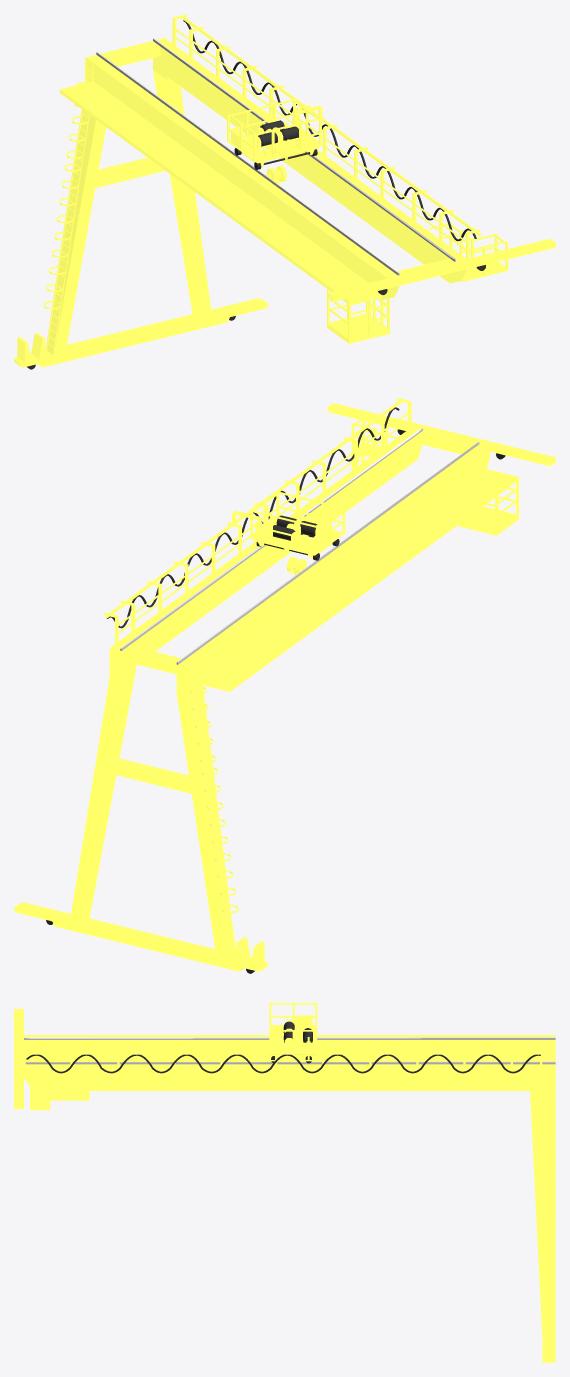
3 renders of one model, top to bottom at view 1: azimuth 30°, elevation 25°; view 2: azimuth 150°, elevation 25°; view 3: azimuth 270°, elevation 25°, orthographic. The views are drawn at different scales.
Visible parts, largest first — view 1: 2_Bay_C_868_Body, 2_Bay_C_868_Head_01; view 2: 2_Bay_C_868_Body, 2_Bay_C_868_Head_01; view 3: 2_Bay_C_868_Body, 2_Bay_C_868_Head_01.
Part boxes in pixels (x1=…): 2_Bay_C_868_Body: x1=14, y1=14, x2=555, y2=369; 2_Bay_C_868_Head_01: x1=227, y1=98, x2=322, y2=169; 2_Bay_C_868_Body: x1=14, y1=398, x2=555, y2=973; 2_Bay_C_868_Head_01: x1=232, y1=491, x2=345, y2=560; 2_Bay_C_868_Body: x1=14, y1=1009, x2=555, y2=1362; 2_Bay_C_868_Head_01: x1=269, y1=1002, x2=317, y2=1063.
Bounding box in the file's own units: 10.3 × 13.29 × 22.18.
